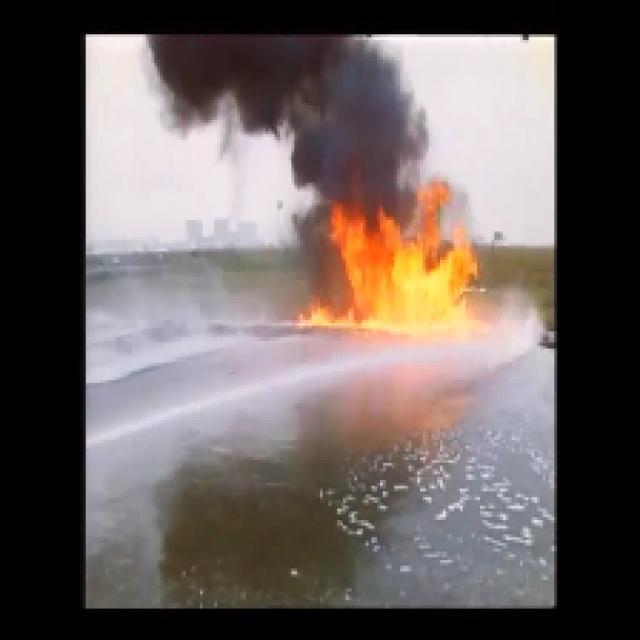Fire: (334, 221, 472, 321)
Smoke: (168, 34, 376, 107)
